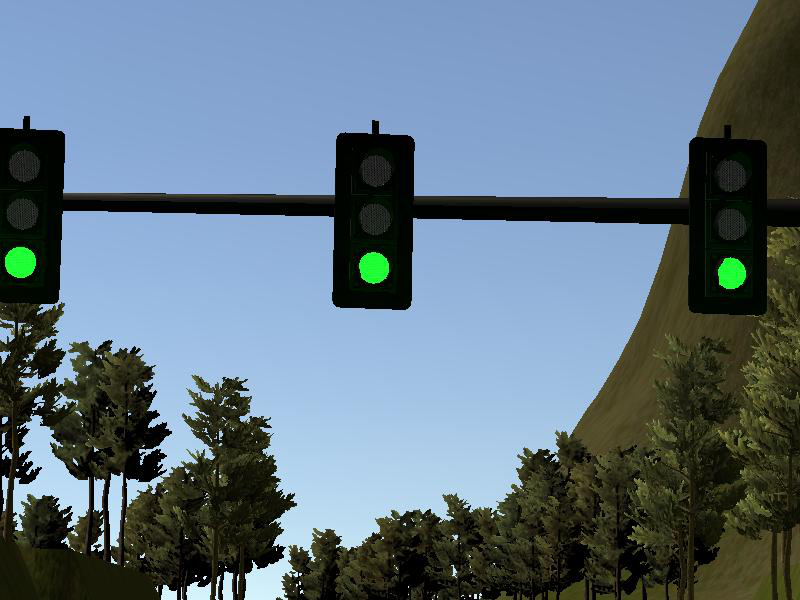green: (691, 140, 767, 315), (336, 136, 411, 311), (1, 130, 66, 302)
